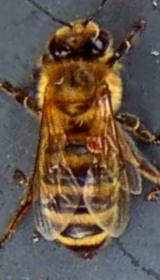varroa_mite: (76, 124, 120, 160)
